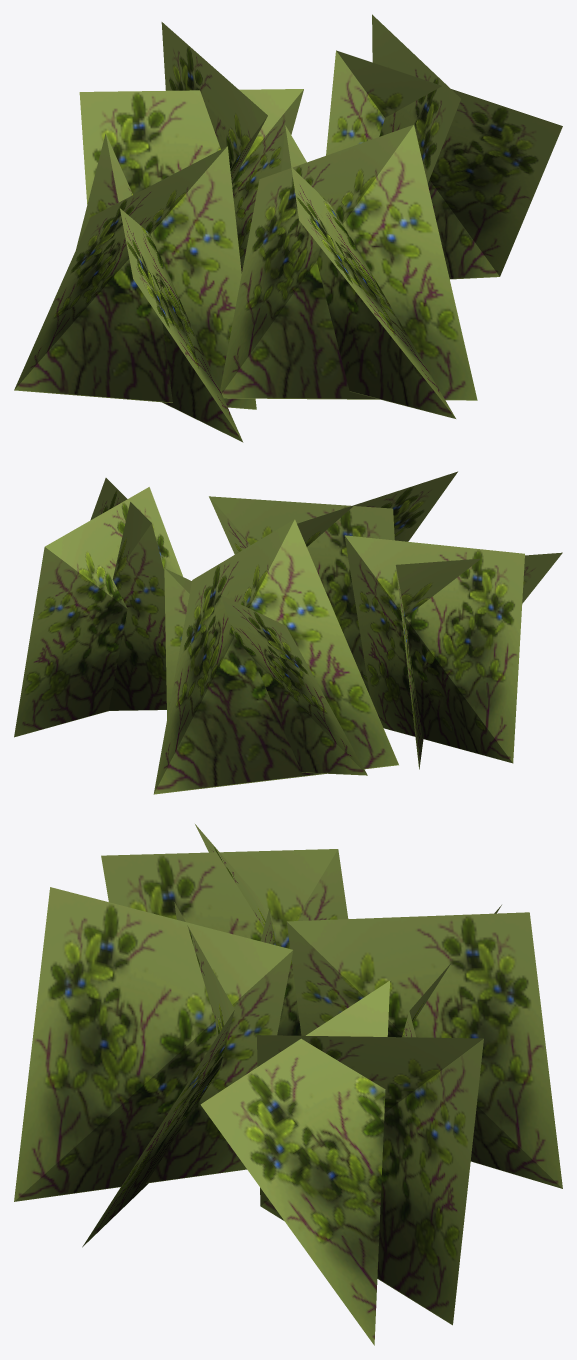
Rendered from bush_1.dae.
3 renders of one model, top to bottom at view 1: azimuth 30°, elevation 25°; view 2: azimuth 150°, elevation 25°; view 3: azimuth 270°, elevation 25°, orthographic. The views are drawn at different scales.
Visible parts, largest first — view 1: Mesh_Object; view 2: Mesh_Object; view 3: Mesh_Object.
Part boxes in pixels (box(x1,y1,x2,y2)): Mesh_Object: box(14, 14, 562, 442); Mesh_Object: box(14, 471, 562, 794); Mesh_Object: box(14, 824, 562, 1345).
Bounding box in the file's own units: 1.45 × 0.7181 × 1.21.
